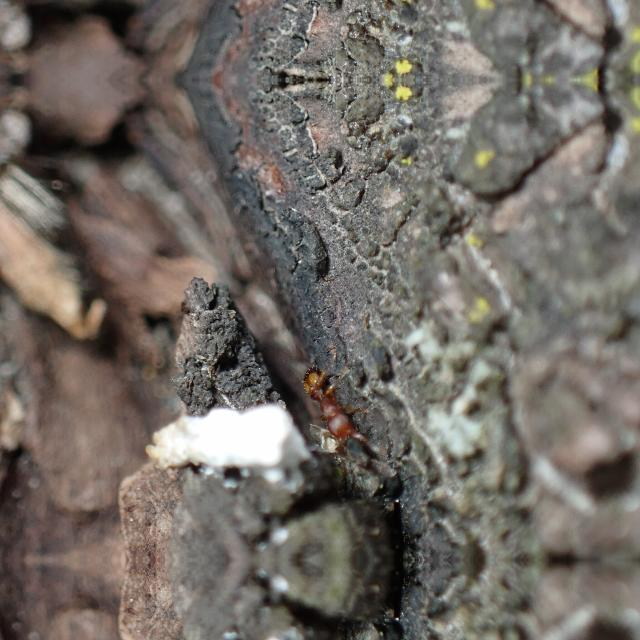Temnothorax: (282, 338, 396, 464)
